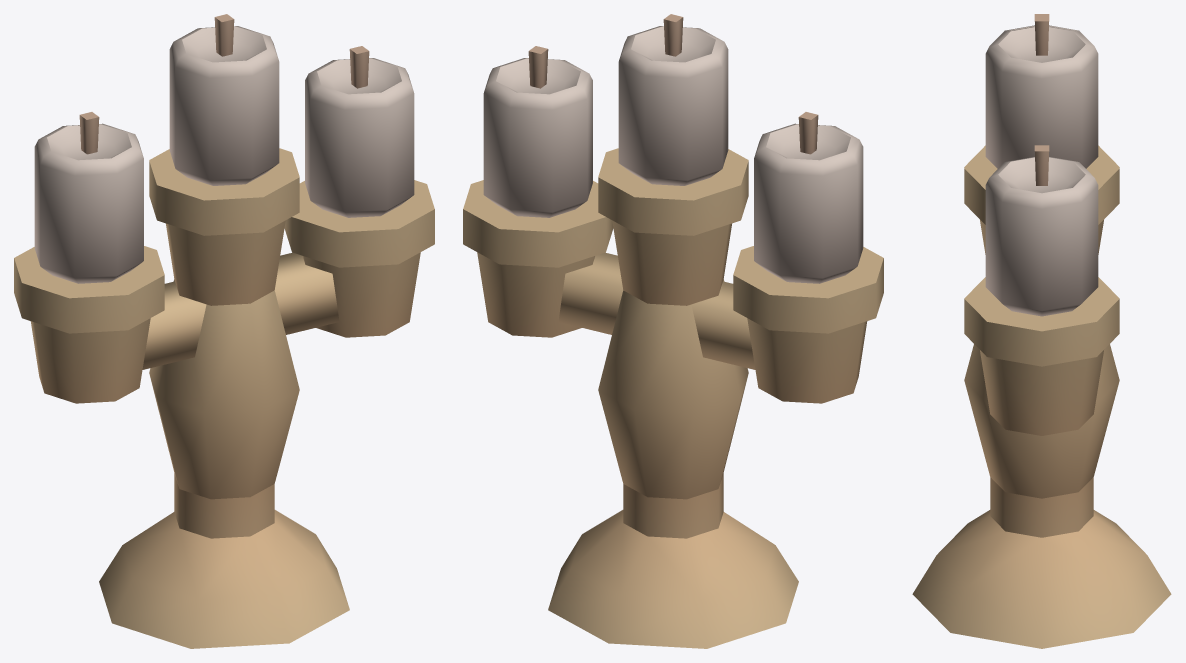
Rendered from candelabra.glb.
3 renders of one model, left to right at view 1: azimuth 30°, elevation 25°; view 2: azimuth 150°, elevation 25°; view 3: azimuth 270°, elevation 25°, orthographic.
Parts seen in each view (by area): view 1: candelabra; view 2: candelabra; view 3: candelabra.
Part boxes in pixels (x1,y1,x2,y2): candelabra: [14, 14, 434, 648]; candelabra: [463, 14, 883, 648]; candelabra: [912, 14, 1171, 648].
Size of the model in its own units: 0.3618 by 0.493 by 0.201.
